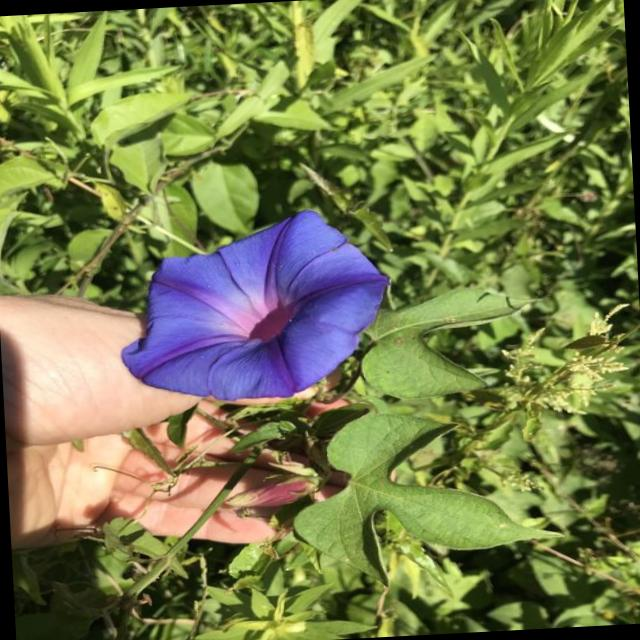ipomoea: (109, 204, 398, 410)
